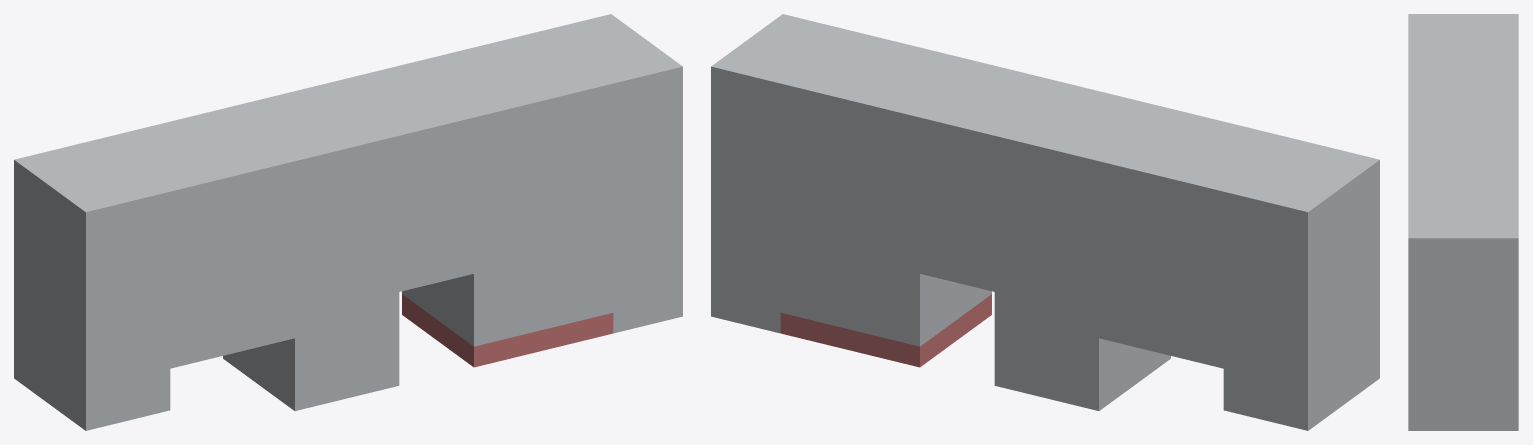
Rendered from step_05.glb.
3 renders of one model, left to right at view 1: azimuth 30°, elevation 25°; view 2: azimuth 150°, elevation 25°; view 3: azimuth 270°, elevation 25°, orthographic. The views are drawn at different scales.
Parts seen in each view (by area): view 1: part__slotted bar (four arrangements), removed__slotted bar (four arrangements); view 2: part__slotted bar (four arrangements), removed__slotted bar (four arrangements); view 3: part__slotted bar (four arrangements).
Boxes of the visible parts, bbox=[...] form: part__slotted bar (four arrangements): bbox=[14, 14, 682, 430]; removed__slotted bar (four arrangements): bbox=[402, 294, 613, 367]; part__slotted bar (four arrangements): bbox=[711, 14, 1379, 430]; removed__slotted bar (four arrangements): bbox=[780, 294, 991, 367]; part__slotted bar (four arrangements): bbox=[1408, 14, 1518, 430].
Size of the model in its own units: 120 by 48 by 25.
